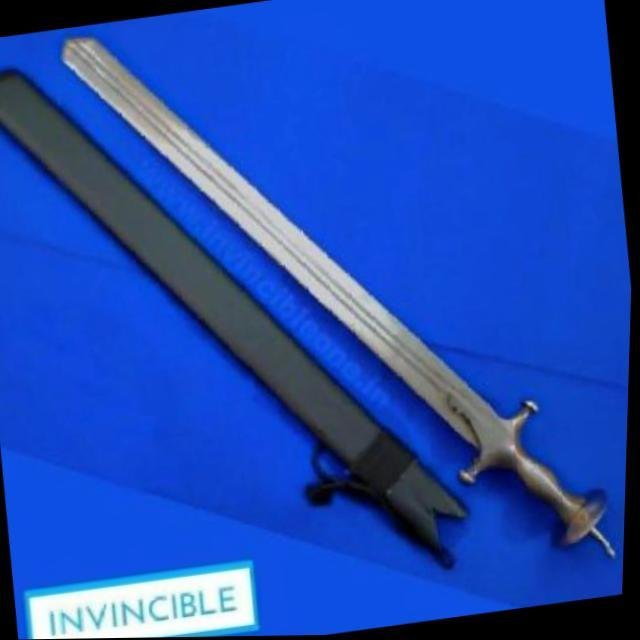weapon: (0, 8, 489, 629)
